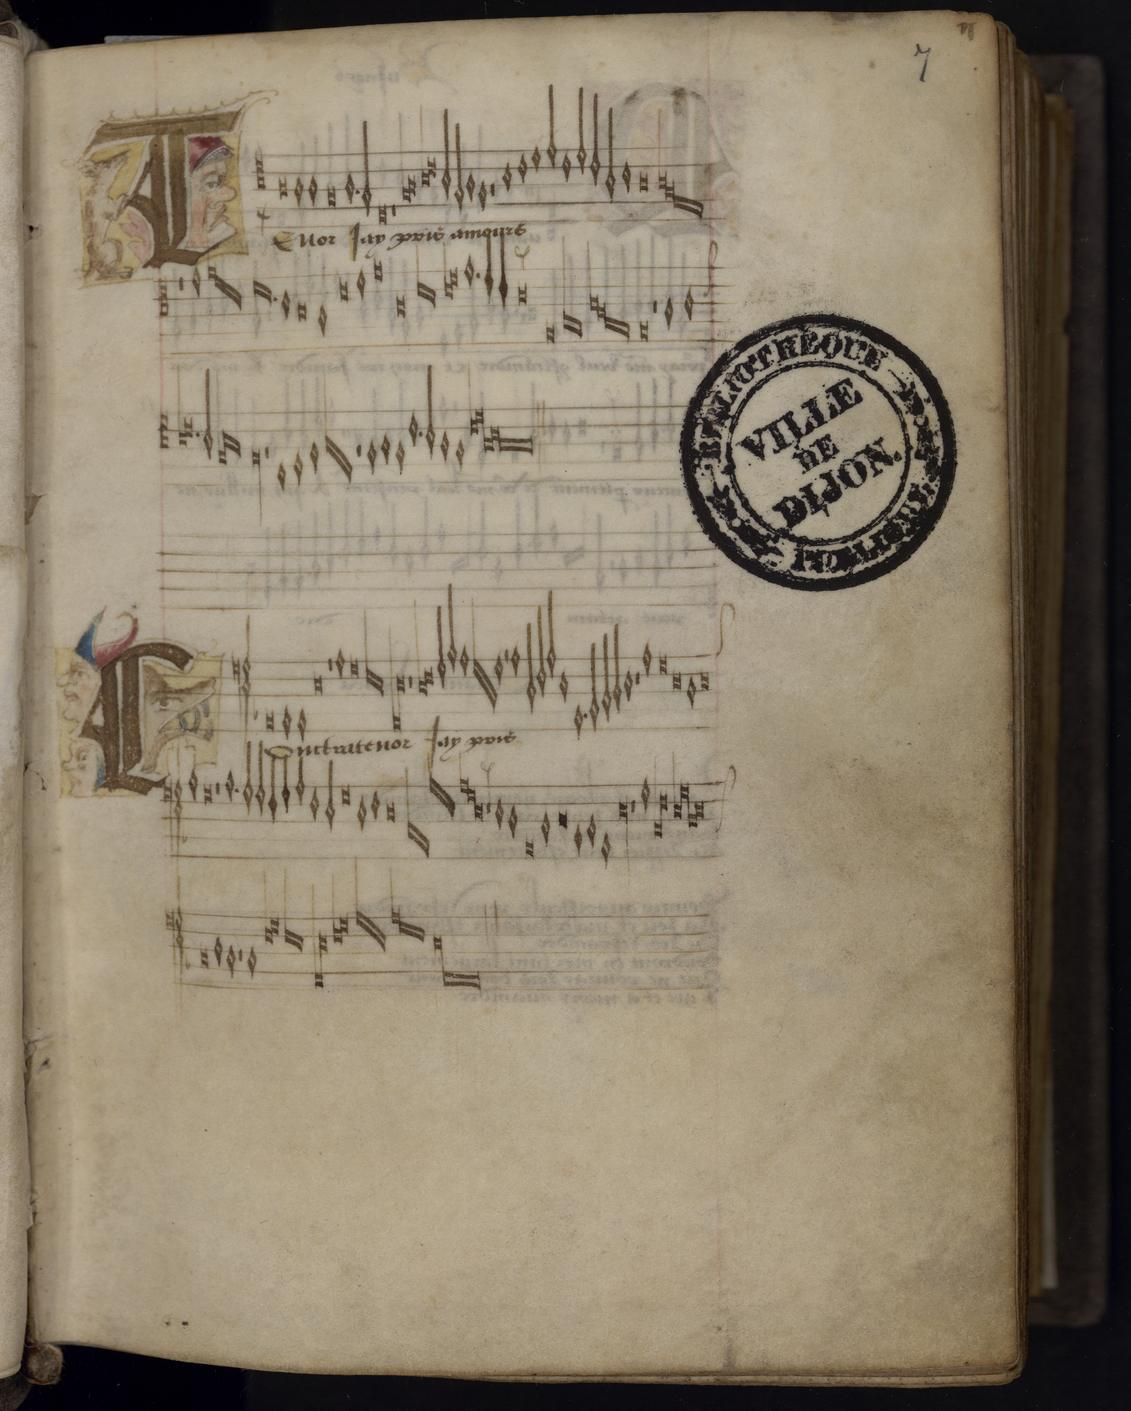barline: (529, 397, 545, 481)
c clef_5: (153, 400, 172, 458)
dot: (187, 423, 203, 444), (415, 425, 428, 444)
l1semibreve_5: (171, 380, 190, 446), (462, 378, 477, 438)
l1semibreve_8: (214, 420, 227, 466)
l2breve_6: (489, 422, 501, 441)
l2semibreve_4: (472, 398, 485, 429)
l2semibreve_5: (181, 415, 196, 435)
l2semibreve_7: (480, 431, 494, 457)
longa_7: (494, 433, 535, 460)
longa_8: (247, 442, 265, 517)
minim rest: (353, 410, 364, 493)
minim_6: (200, 365, 217, 463), (422, 380, 439, 463)
o1semibreve_7: (319, 371, 334, 485)
o2breve_7: (231, 423, 244, 463)
o2semibreve_10: (335, 403, 354, 488)
o2semibreve_6: (222, 425, 234, 464)
semibreve rest: (261, 412, 274, 488)
semibreve_10: (272, 457, 292, 497)
semibreve_5: (404, 406, 422, 451)
semibreve_7: (434, 425, 454, 466), (377, 426, 396, 468)
semibreve_8: (361, 435, 380, 480), (392, 436, 410, 481), (451, 431, 464, 474), (309, 437, 322, 468)
semibreve_9: (292, 449, 305, 501)
